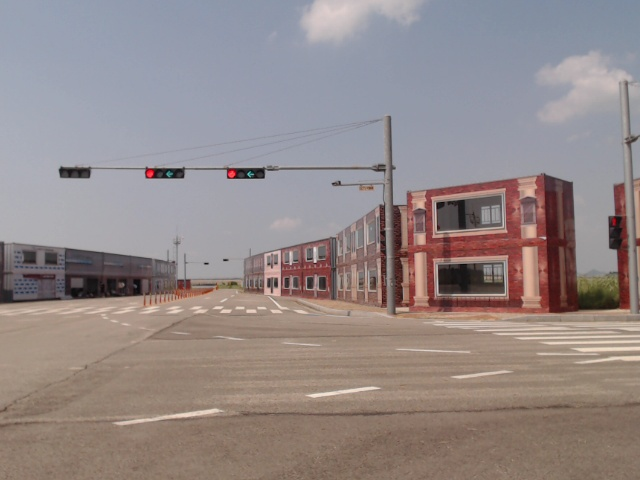left_green_4: (146, 168, 184, 178), (227, 169, 264, 178)
